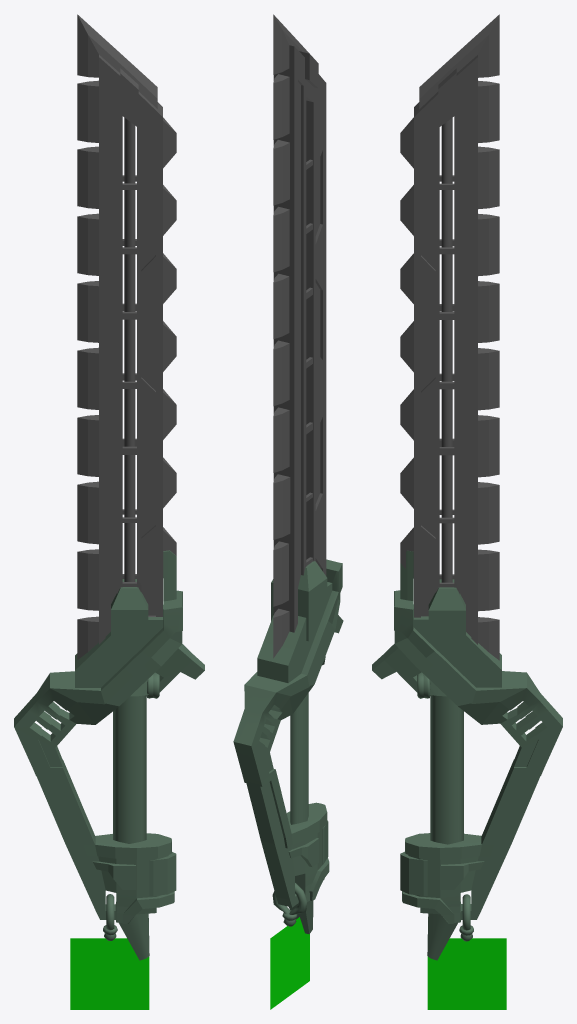
Rendered from Sword.fbx.
3 views of the same model, side by side, from view 1: azimuth 90°, elevation 25°; view 2: azimuth 150°, elevation 25°; view 3: azimuth 270°, elevation 25° (orthographic).
Parts seen in each view (by area): view 1: Sword, Feather; view 2: Sword, Feather; view 3: Sword, Feather.
Boxes of the visible parts, x1,y1,x2,y2 form: Sword: (14,14,204,960); Feather: (70,938,149,1009); Sword: (233,14,343,934); Feather: (270,917,309,1009); Sword: (372,14,562,960); Feather: (427,938,506,1009).
Bounding box in the file's own units: 0.3714 × 8.09 × 1.41.
